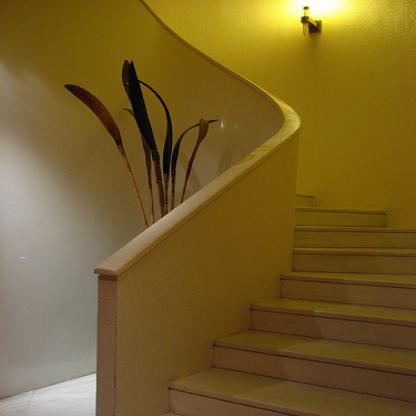stairs: (245, 304, 409, 416)
